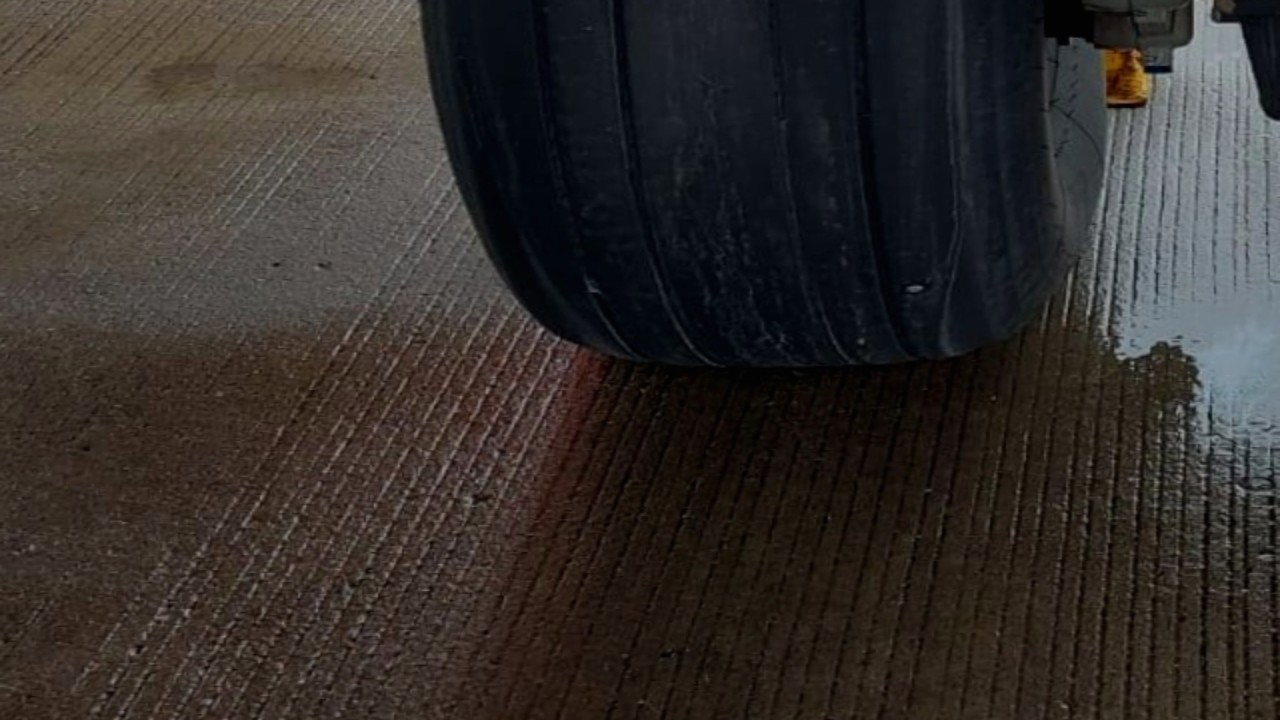wheel: (356, 0, 1130, 397)
